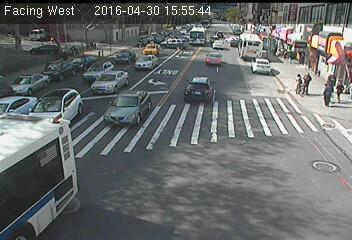neg: (317, 132, 349, 175), (205, 178, 233, 215), (197, 76, 222, 109), (232, 56, 255, 86), (169, 178, 190, 206), (97, 115, 118, 142), (265, 107, 286, 134), (47, 148, 67, 175), (284, 17, 304, 44), (145, 106, 164, 131), (267, 146, 285, 170), (294, 146, 312, 169), (165, 45, 183, 68), (269, 201, 286, 225), (18, 145, 35, 167), (118, 85, 135, 107), (187, 31, 203, 52), (217, 15, 233, 36), (143, 45, 158, 66), (254, 24, 267, 41), (193, 144, 206, 161), (61, 83, 74, 100), (102, 165, 114, 180), (253, 124, 264, 139), (103, 72, 113, 85)
pos: (325, 80, 351, 119), (316, 81, 342, 116), (289, 71, 309, 99), (297, 69, 316, 95), (323, 69, 338, 89), (69, 44, 76, 54)
